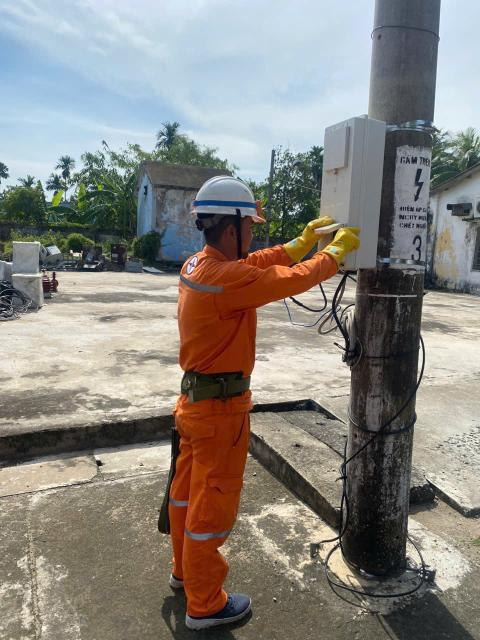gloves: (316, 219, 382, 270), (281, 207, 334, 258)
harness: (171, 363, 264, 413)
helmet: (181, 172, 275, 226)
shoes: (176, 589, 263, 633), (162, 571, 193, 597)
